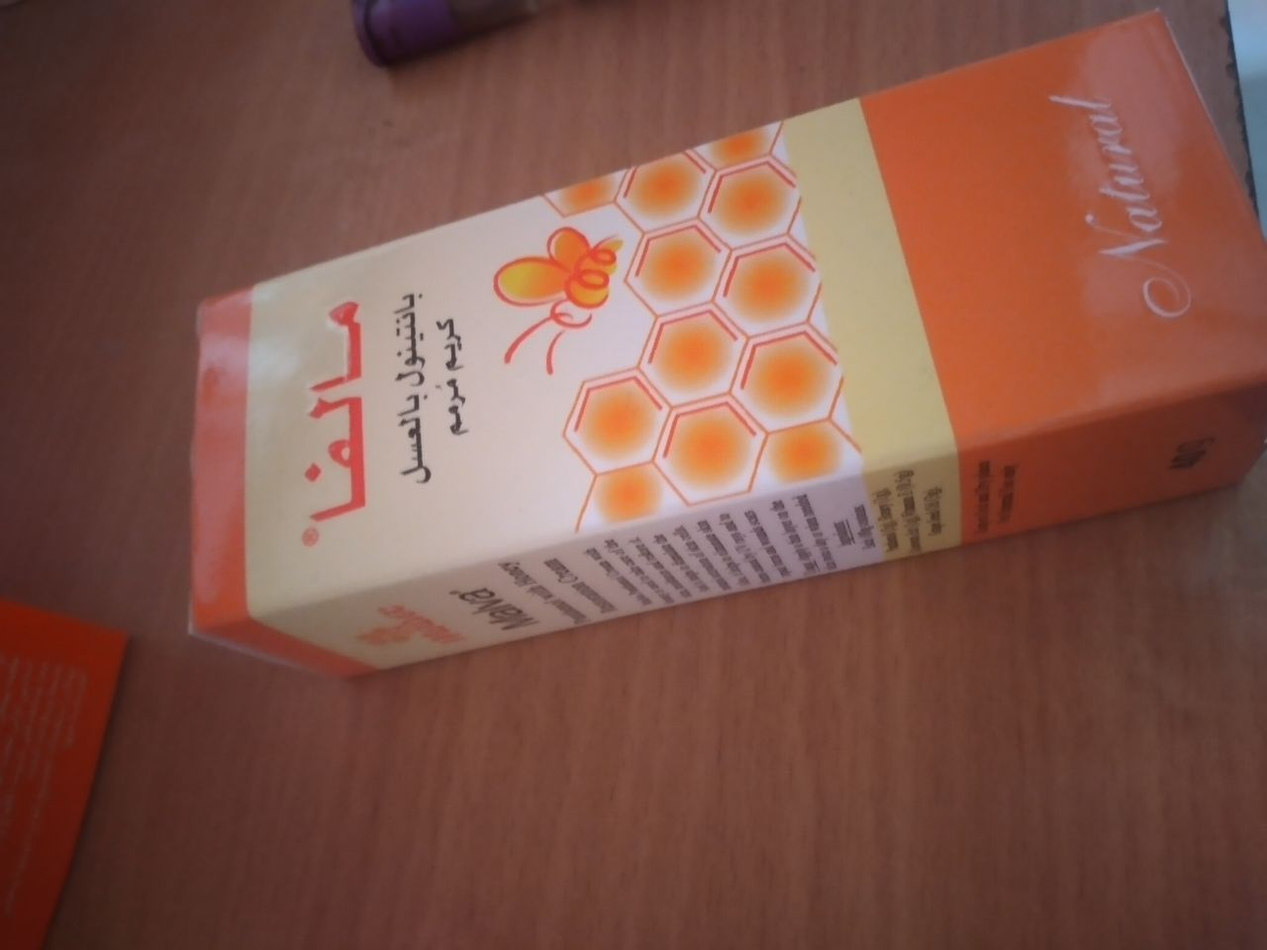Medicine: (183, 20, 1267, 683)
